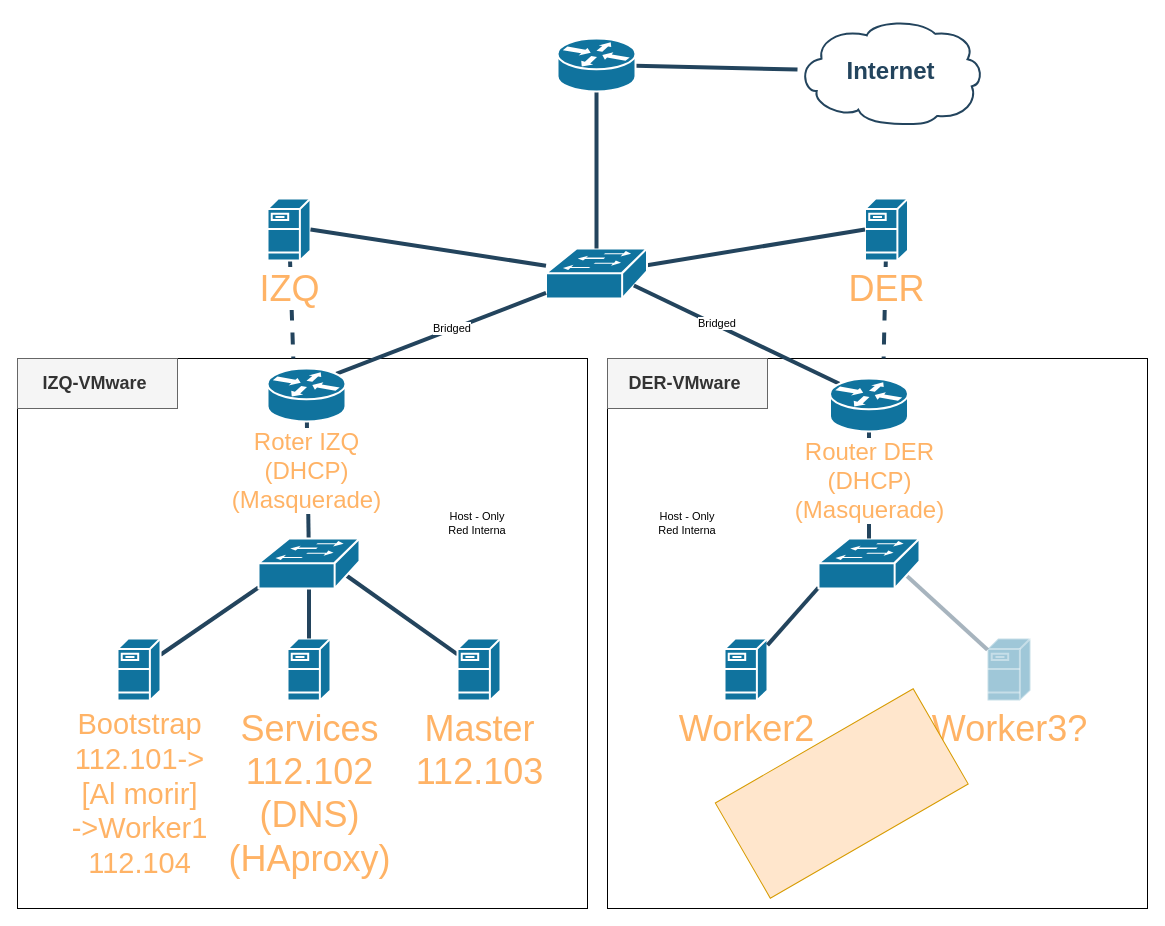
The diagram is 1165 pixels wide and 926 high, and some of its shapes have lost their labels. Here are the shapes that lost their labels. From the top down, the box of each, then its label:
(556, 37, 636, 92): Main Gateway 192.168.1.1 (DHCP)
(714, 688, 968, 898): En Proceso...
